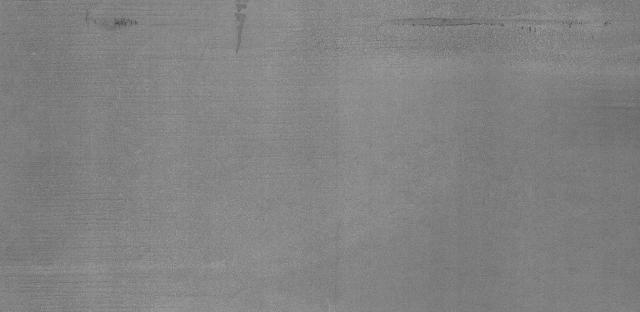inclusion: (389, 10, 617, 37), (104, 12, 142, 30)
water_spot: (231, 4, 253, 54)
